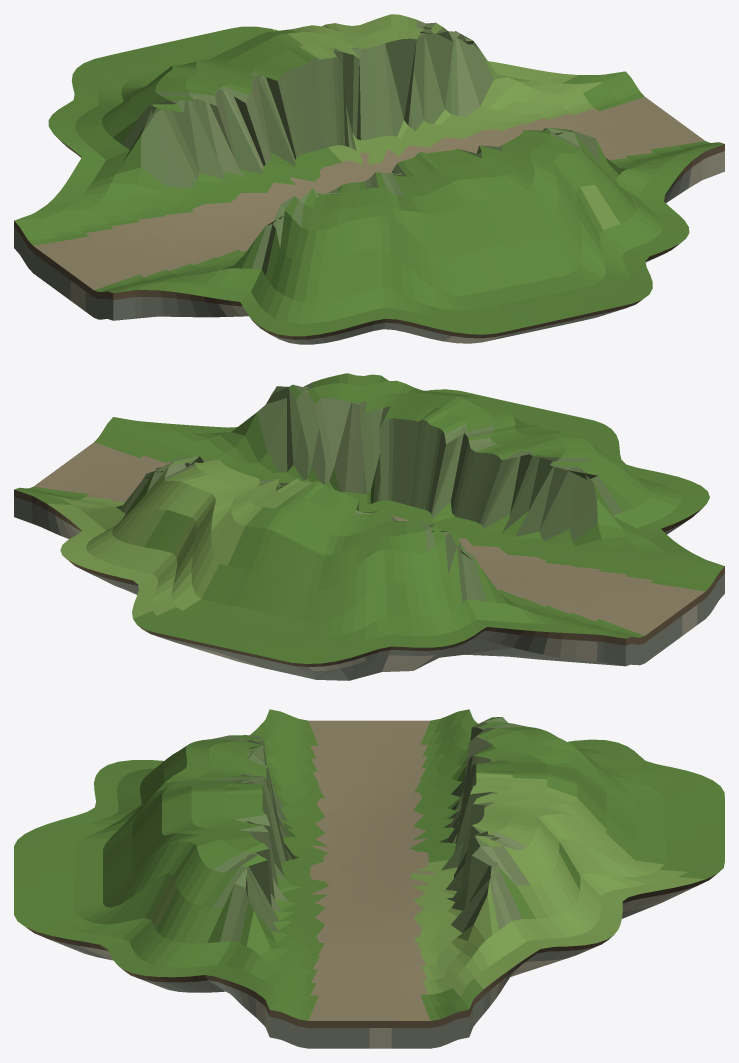
File: path_cliff_passage_visual.fbx
The picture shows the model from 3 angles, top to bottom: view 1: azimuth 30°, elevation 25°; view 2: azimuth 150°, elevation 25°; view 3: azimuth 270°, elevation 25°; orthographic projection.
Visible parts, largest first — view 1: chunk_path_cliff_passage; view 2: chunk_path_cliff_passage; view 3: chunk_path_cliff_passage.
Boxes of the visible parts, x1,y1,x2,y2 form: chunk_path_cliff_passage: (14, 14, 724, 344); chunk_path_cliff_passage: (14, 373, 724, 680); chunk_path_cliff_passage: (14, 709, 724, 1048).
Size of the model in its own units: 256 by 79.84 by 256.
